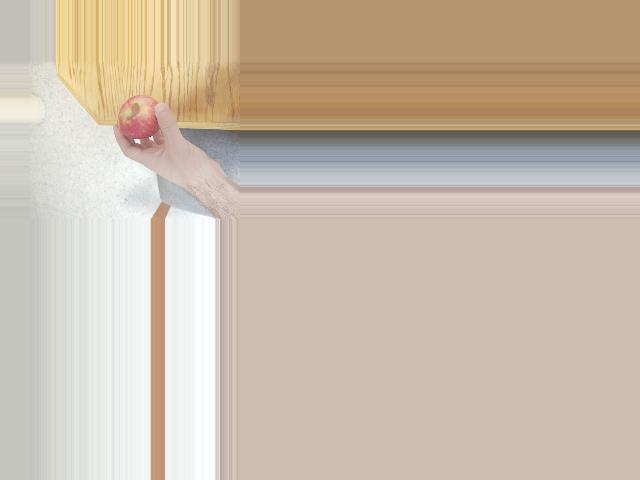apple: (117, 95, 166, 140)
